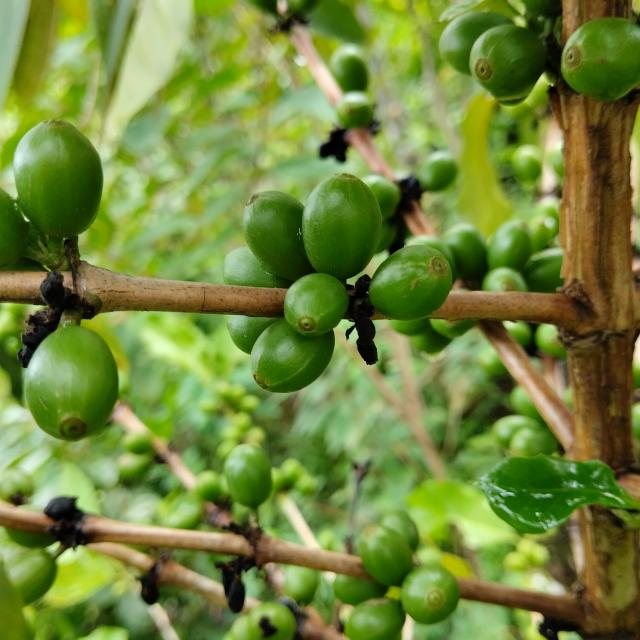green: (23, 324, 118, 441), (23, 324, 118, 441), (12, 119, 102, 238), (12, 119, 102, 238), (302, 173, 382, 280), (243, 190, 315, 281), (243, 190, 315, 281), (369, 245, 453, 321), (250, 319, 335, 393), (284, 273, 349, 337), (227, 315, 280, 354), (227, 315, 280, 354)
